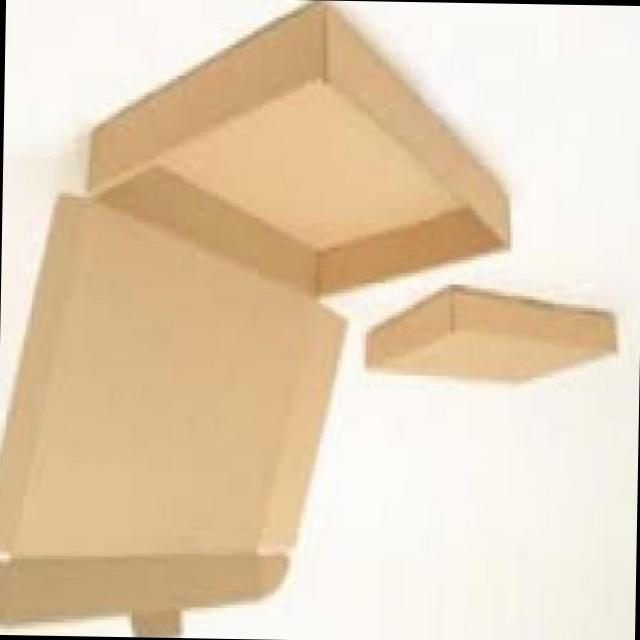cardboard paper: (0, 4, 507, 637), (364, 289, 615, 384)
